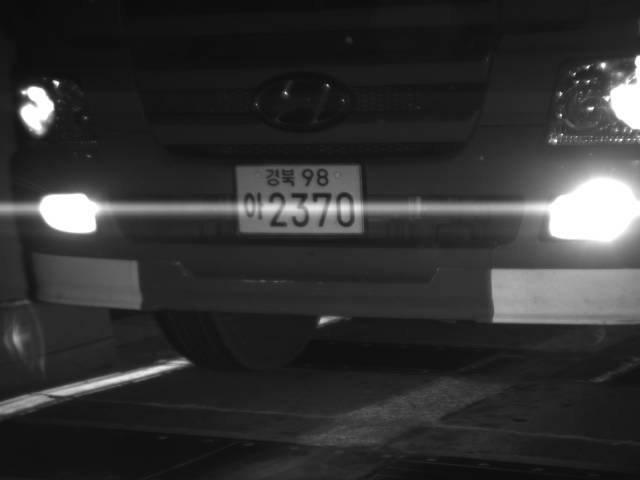car: (9, 1, 638, 374)
plate: (232, 161, 368, 237)
